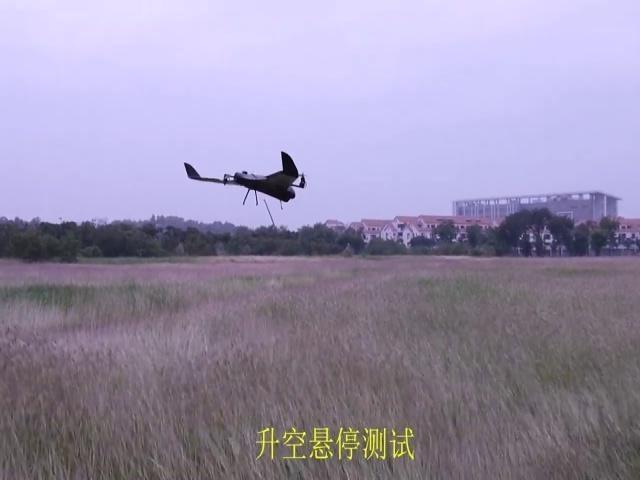Airplane: (183, 151, 307, 210)
